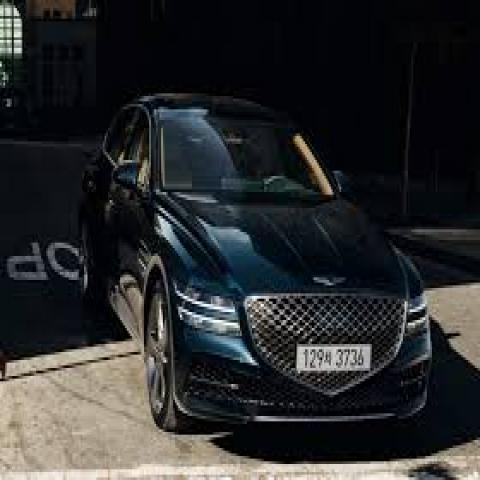LP: (292, 336, 374, 380)
